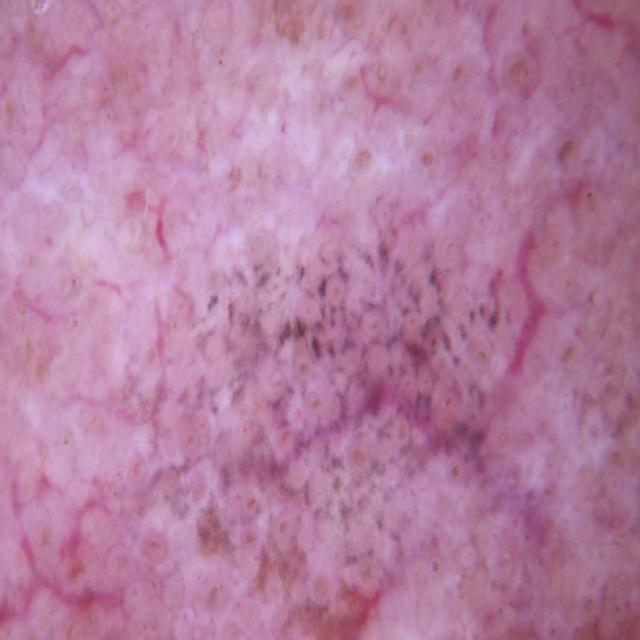Melanoma: (147, 216, 590, 640)
